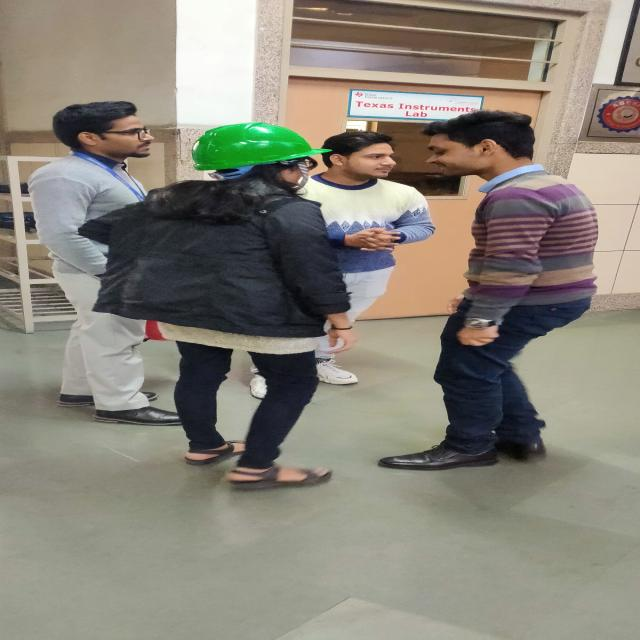no jacket: (84, 123, 356, 489)
unsafe: (387, 111, 600, 468), (26, 101, 182, 428), (291, 133, 434, 335)
